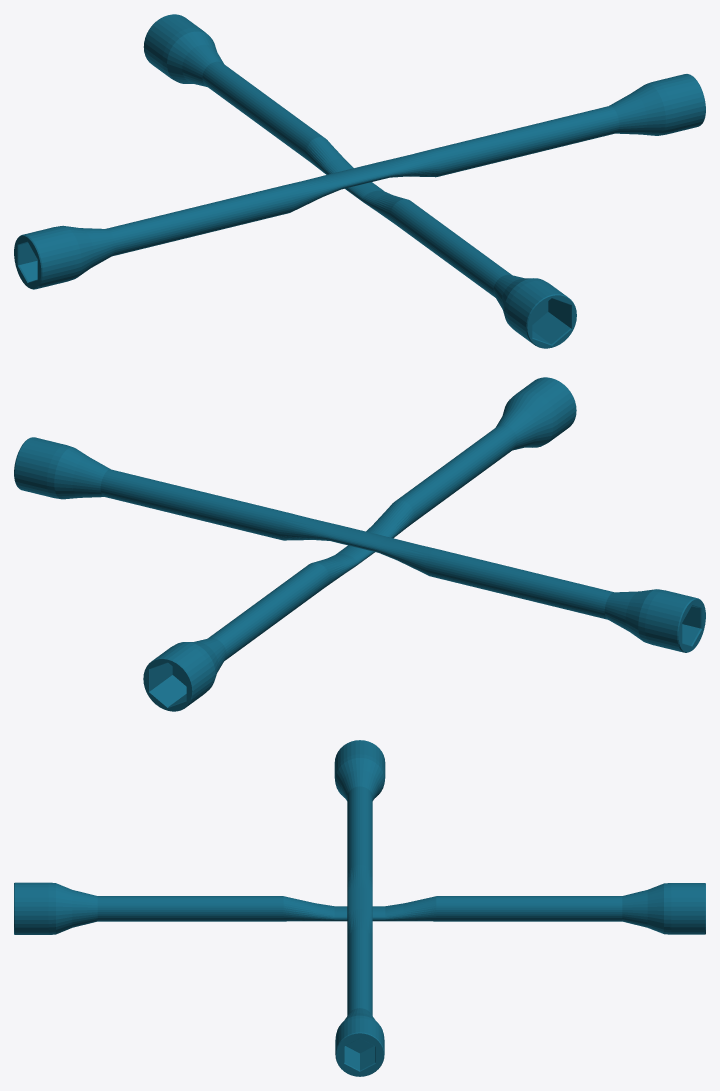
3 renders of one model, top to bottom at view 1: azimuth 30°, elevation 25°; view 2: azimuth 150°, elevation 25°; view 3: azimuth 270°, elevation 25°, orthographic. The views are drawn at different scales.
Visible parts, largest first — view 1: Fixed_welded_cross_with_four_open_hex_sockets; view 2: Fixed_welded_cross_with_four_open_hex_sockets; view 3: Fixed_welded_cross_with_four_open_hex_sockets.
Boxes of the visible parts, x1,y1,x2,y2 form: Fixed_welded_cross_with_four_open_hex_sockets: [14, 14, 705, 348]; Fixed_welded_cross_with_four_open_hex_sockets: [14, 377, 705, 711]; Fixed_welded_cross_with_four_open_hex_sockets: [14, 740, 705, 1076].
Bounding box in the file's own units: 0.38 × 0.029 × 0.38.
